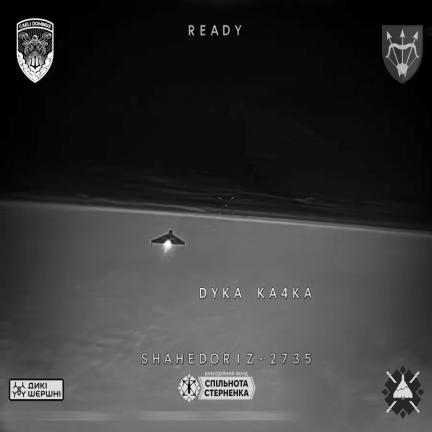Shahed: (151, 230, 184, 245)
